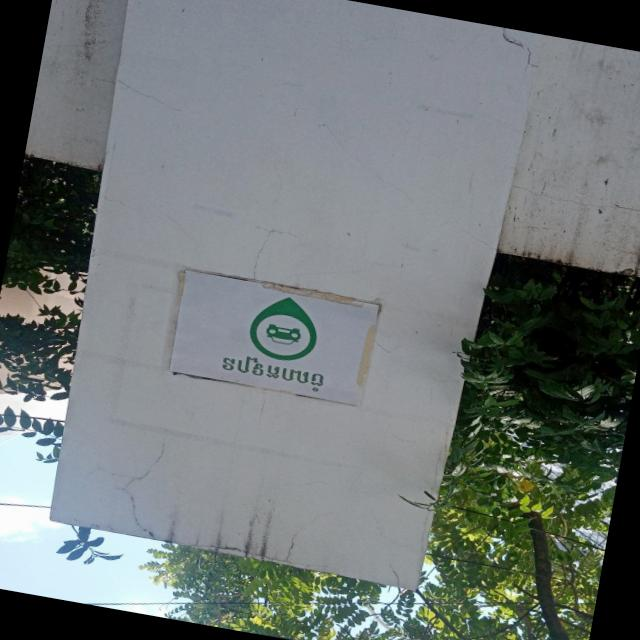Yolov11kh: (180, 337, 355, 420)
